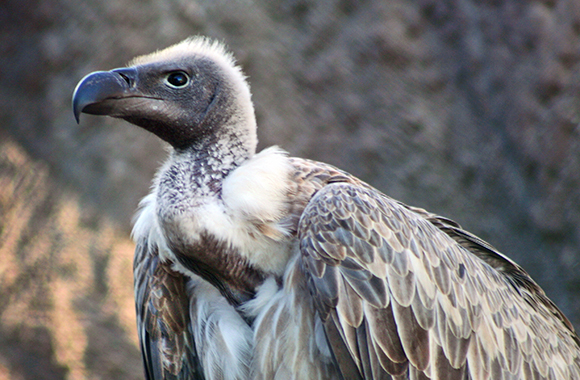Pengoyak Daging: (59, 64, 124, 132)
